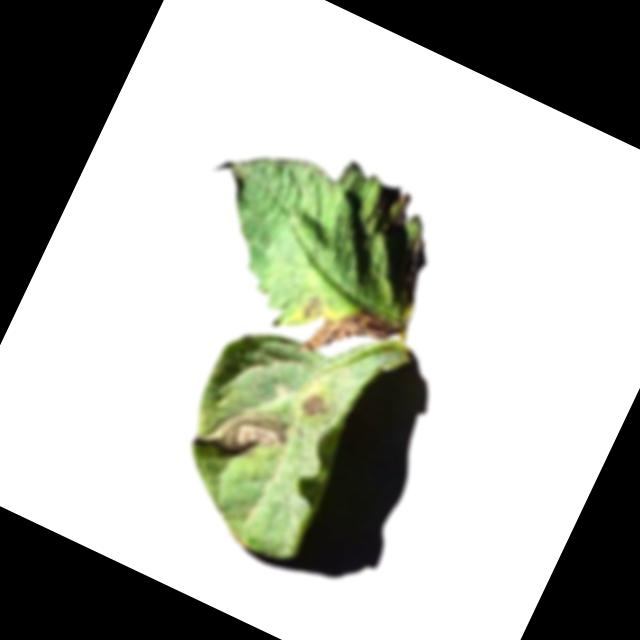Early_blight: (297, 288, 400, 388), (204, 393, 296, 476), (297, 388, 334, 425), (385, 188, 415, 228)
